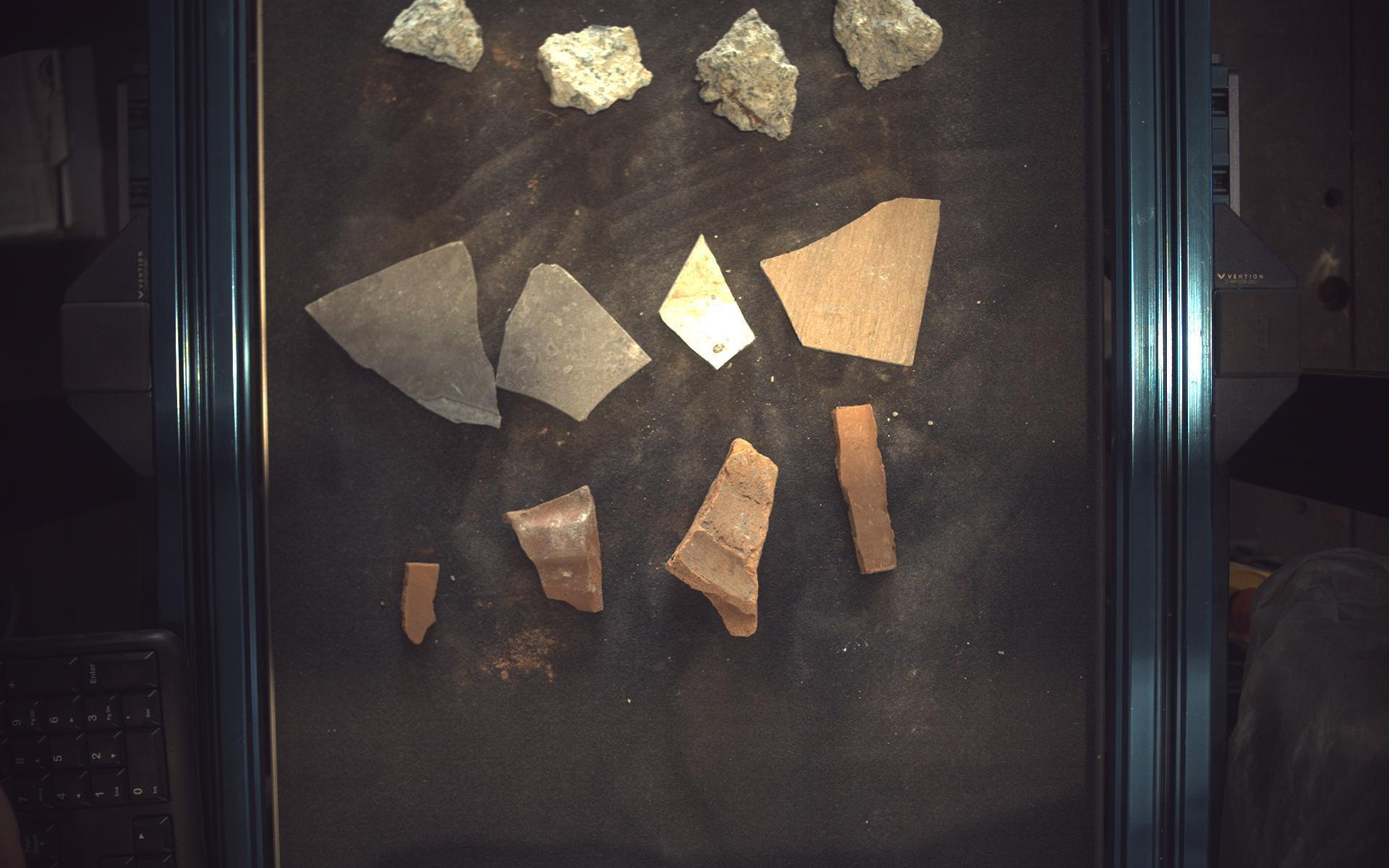brick: (667, 438, 779, 637), (503, 486, 604, 613), (833, 404, 899, 575), (401, 563, 440, 645)
concrete: (696, 7, 799, 139), (538, 24, 653, 113), (835, 1, 945, 88), (383, 1, 484, 71)
tile: (305, 242, 501, 427), (762, 197, 942, 366), (496, 263, 652, 421), (660, 234, 756, 369)
